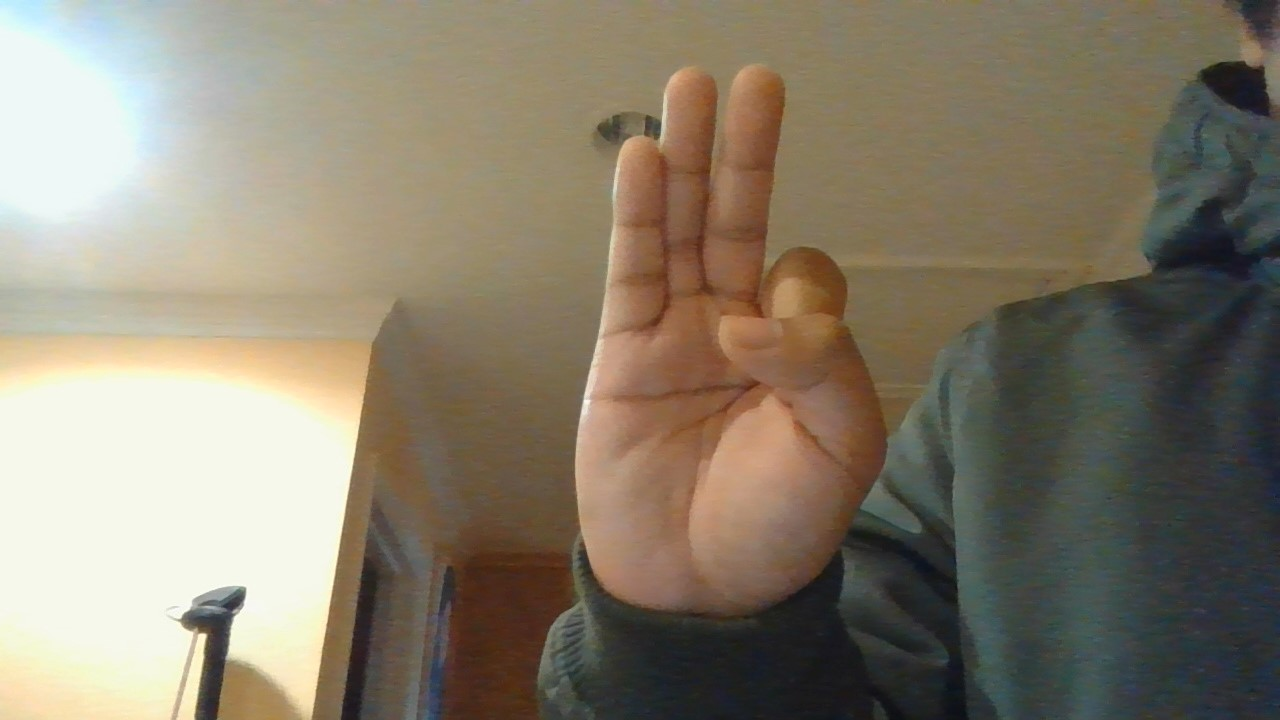f: (548, 34, 898, 639)
